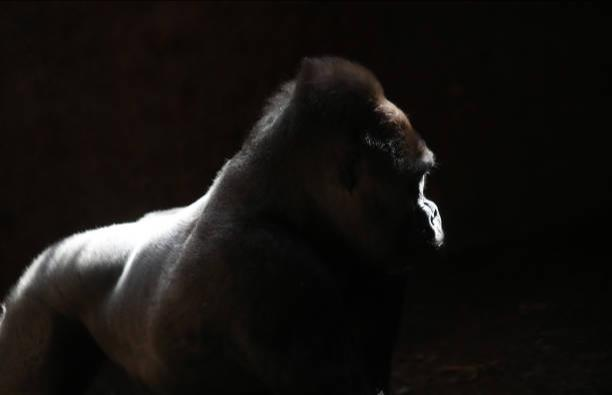gorille_Autres: (0, 58, 541, 392)
